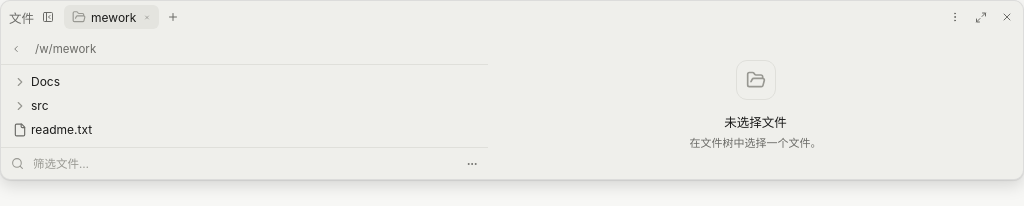
Test case: FilesPane › opens a file in a line-numbered viewer on the page
Click the list item "readme.txt". click: [53, 130]
box: [13, 122, 92, 137]
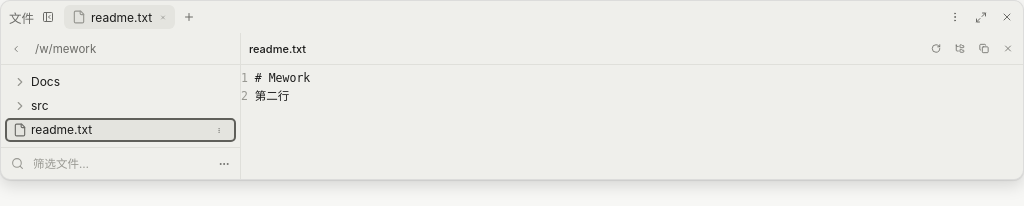
Expected: the number of tabs is 1, [64, 5, 152, 29]
Now the tab "readme.txt" is shown, box [64, 5, 152, 29]
